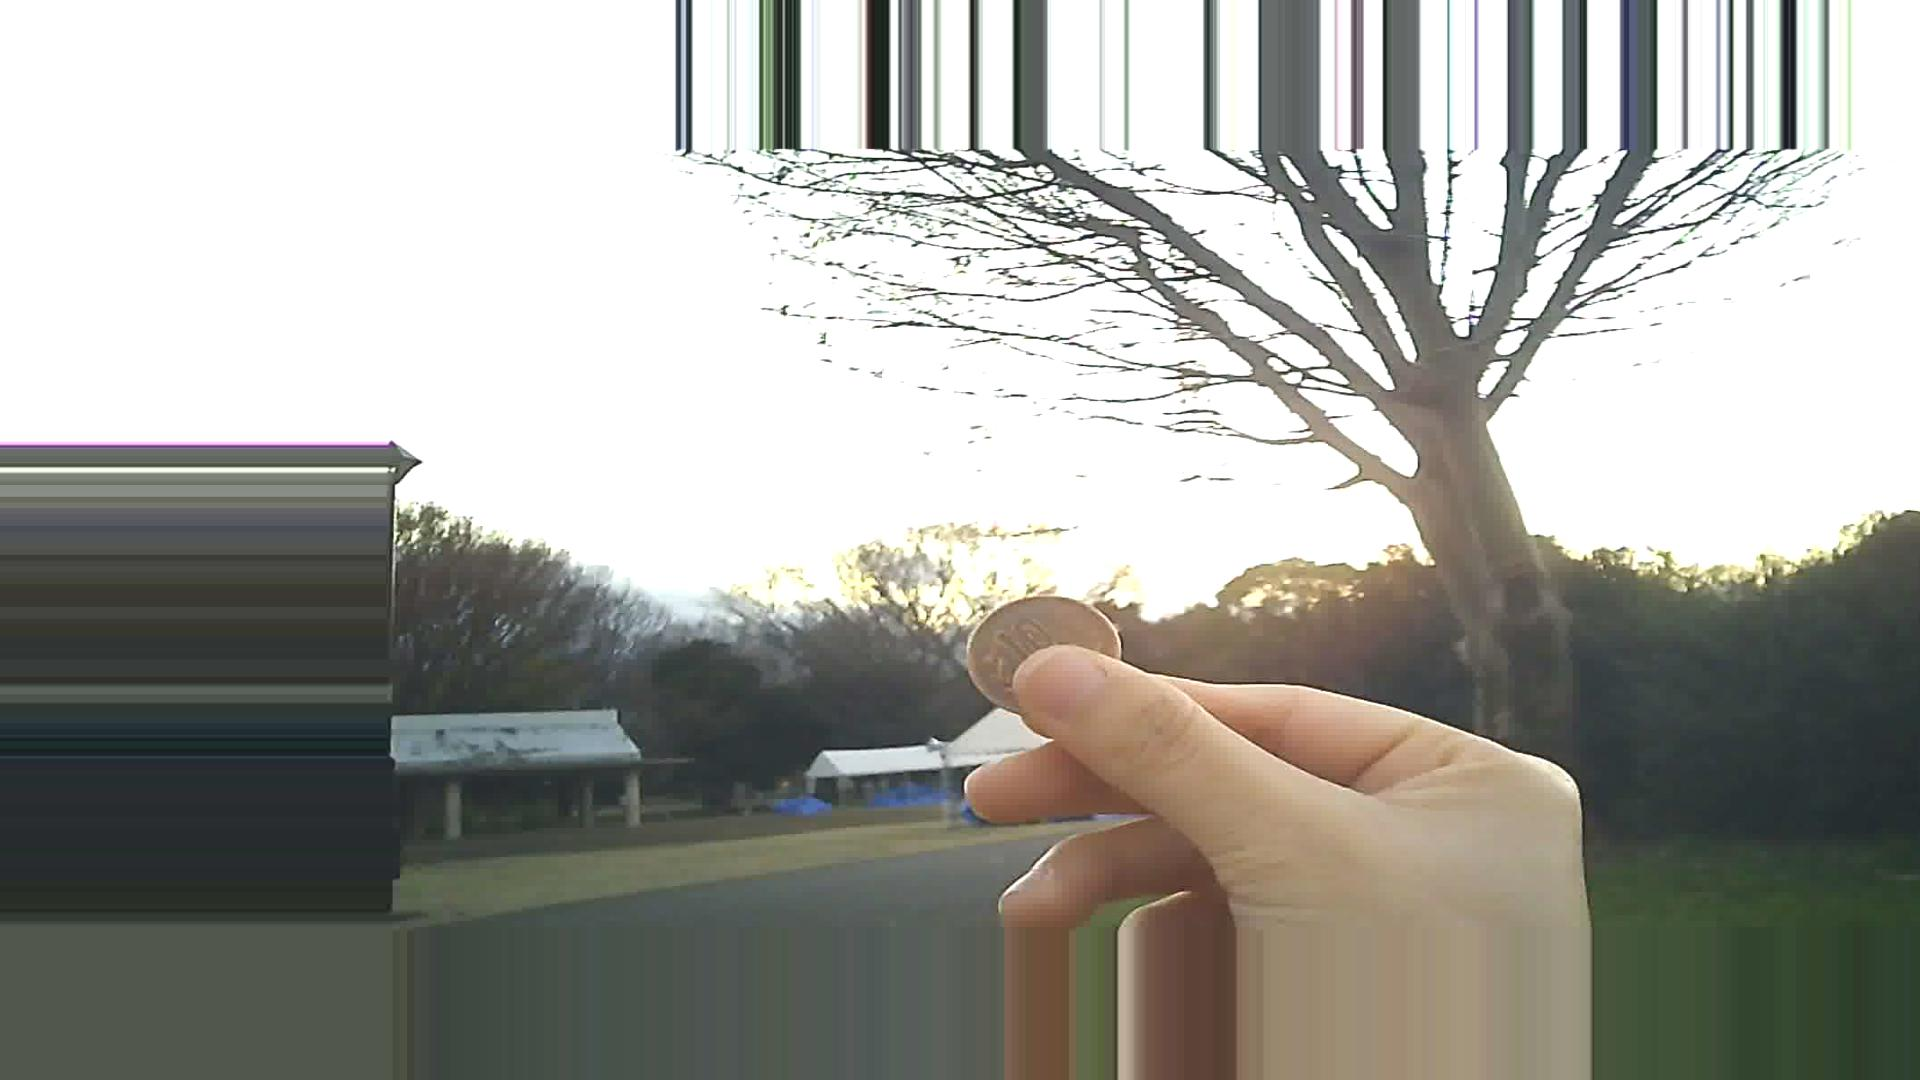10 Yen: (967, 585, 1125, 719)
